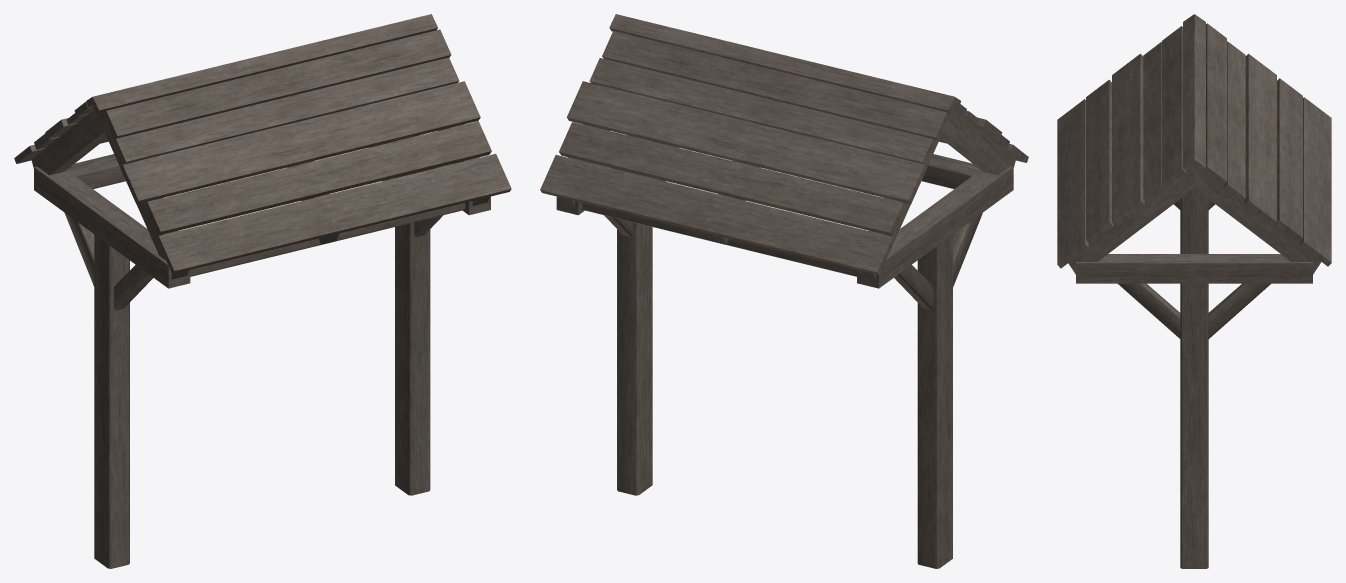
The model's file is woodRoof1.fbx.
3 renders of one model, left to right at view 1: azimuth 30°, elevation 25°; view 2: azimuth 150°, elevation 25°; view 3: azimuth 270°, elevation 25°, orthographic. The views are drawn at different scales.
Visible parts, largest first — view 1: woodRoof1; view 2: woodRoof1; view 3: woodRoof1.
Part boxes in pixels (x1=…): woodRoof1: x1=14, y1=14, x2=511, y2=568; woodRoof1: x1=540, y1=14, x2=1028, y2=568; woodRoof1: x1=1057, y1=14, x2=1331, y2=568.
Size of the model in its own units: 429 by 561 by 338.
